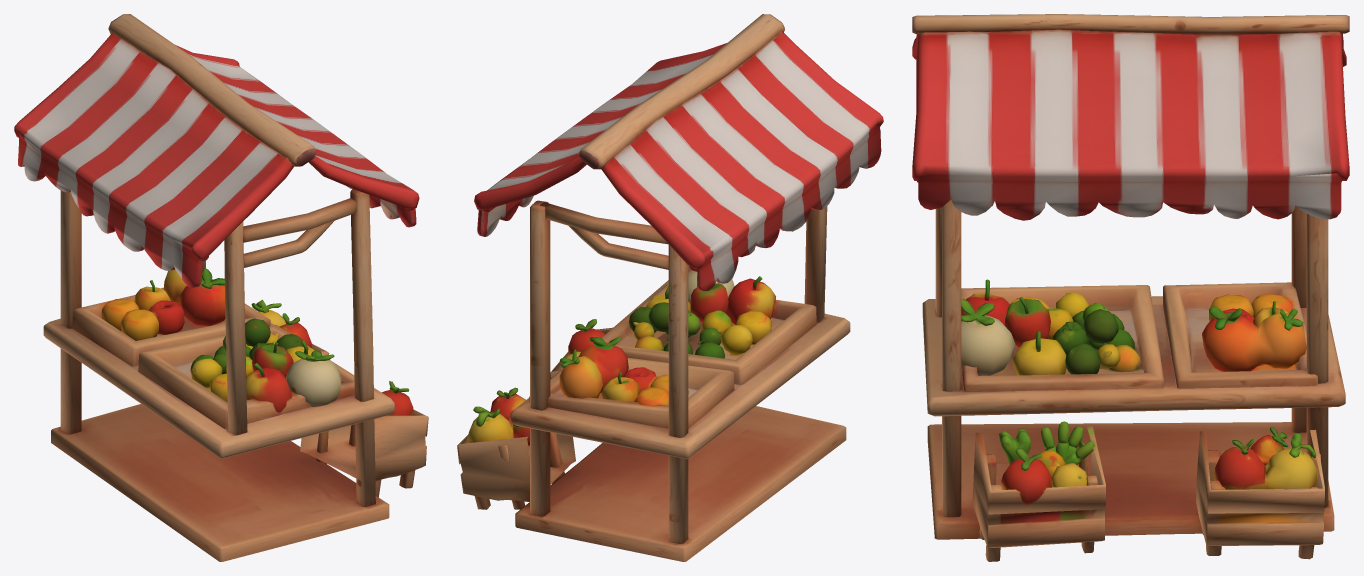
File: market_stall.glb
The picture shows the model from 3 angles, left to right: view 1: azimuth 30°, elevation 25°; view 2: azimuth 150°, elevation 25°; view 3: azimuth 270°, elevation 25°; orthographic projection. The views are drawn at different scales.
Visible parts, largest first — view 1: tripo_node_5df37db7-56a0-4426-ad75-5e7a74f33928; view 2: tripo_node_5df37db7-56a0-4426-ad75-5e7a74f33928; view 3: tripo_node_5df37db7-56a0-4426-ad75-5e7a74f33928.
Part boxes in pixels (left/top/right/bottom): tripo_node_5df37db7-56a0-4426-ad75-5e7a74f33928: left=14, top=14, right=428, bottom=561; tripo_node_5df37db7-56a0-4426-ad75-5e7a74f33928: left=457, top=14, right=883, bottom=561; tripo_node_5df37db7-56a0-4426-ad75-5e7a74f33928: left=912, top=14, right=1349, bottom=561.
Bounding box in the file's own units: 2.27 × 3.2 × 2.69.
Materials: 1 (1 with a texture image).
